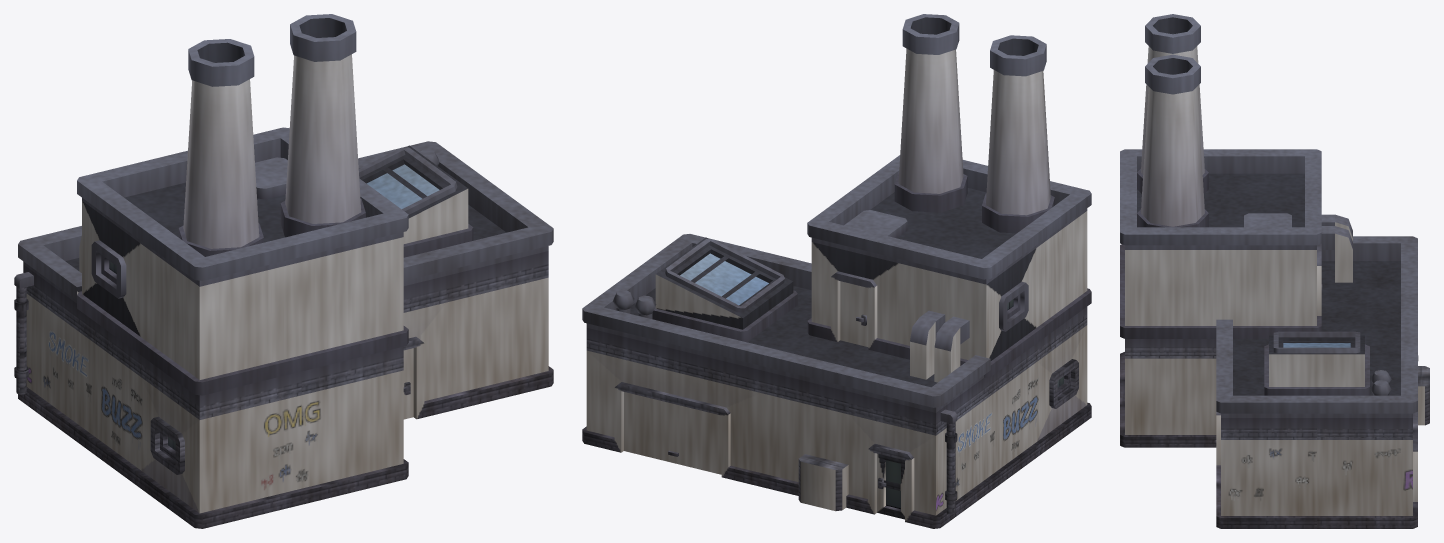
Rendered from building-e-white-scuffed.glb.
3 renders of one model, left to right at view 1: azimuth 30°, elevation 25°; view 2: azimuth 150°, elevation 25°; view 3: azimuth 270°, elevation 25°, orthographic. The views are drawn at different scales.
Parts seen in each view (by area): view 1: building-e; view 2: building-e; view 3: building-e.
Part boxes in pixels (<box>): building-e: <box>14,14,553,528</box>; building-e: <box>582,14,1091,528</box>; building-e: <box>1120,14,1429,528</box>.
Bounding box in the file's own units: 1.68 × 1.65 × 1.29.
1 material, 1 textured.
